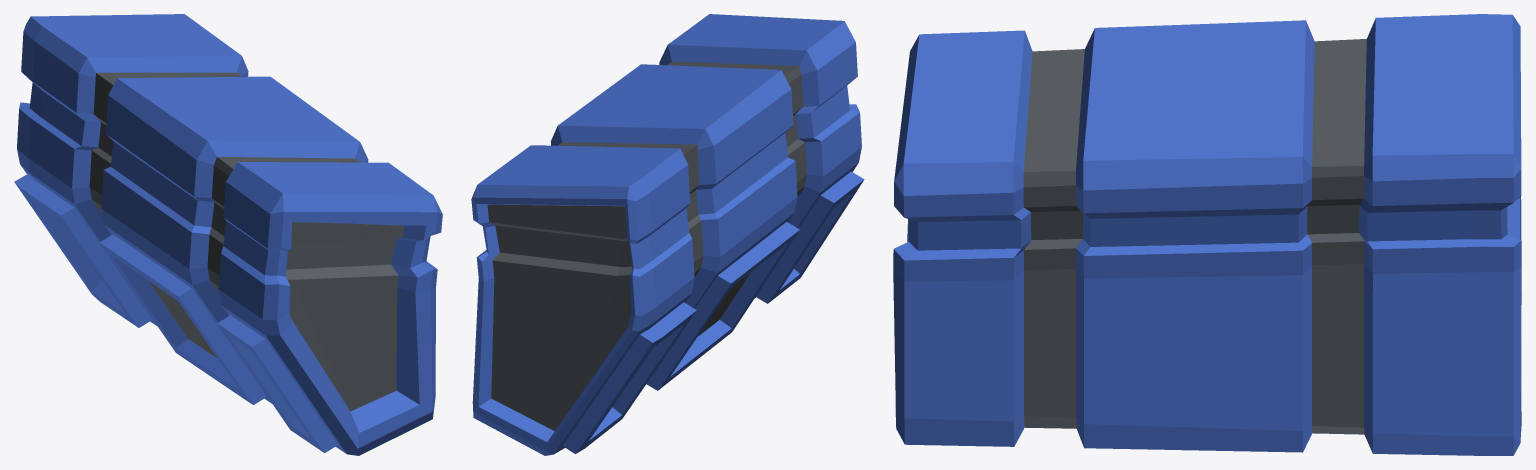
The model's file is Fighter_10_Engine_Right_Blue.fbx.
3 views of the same model, side by side, from view 1: azimuth 30°, elevation 25°; view 2: azimuth 150°, elevation 25°; view 3: azimuth 270°, elevation 25° (orthographic). The views are drawn at different scales.
Visible parts, largest first — view 1: Fighter_10_Engine_Right_Blue; view 2: Fighter_10_Engine_Right_Blue; view 3: Fighter_10_Engine_Right_Blue.
Part boxes in pixels (x1,y1,x2,y2): Fighter_10_Engine_Right_Blue: (14, 14, 442, 455); Fighter_10_Engine_Right_Blue: (471, 14, 864, 455); Fighter_10_Engine_Right_Blue: (893, 14, 1521, 455).
Bounding box in the file's own units: 403 × 595 × 912.
2 materials, 2 textured.
